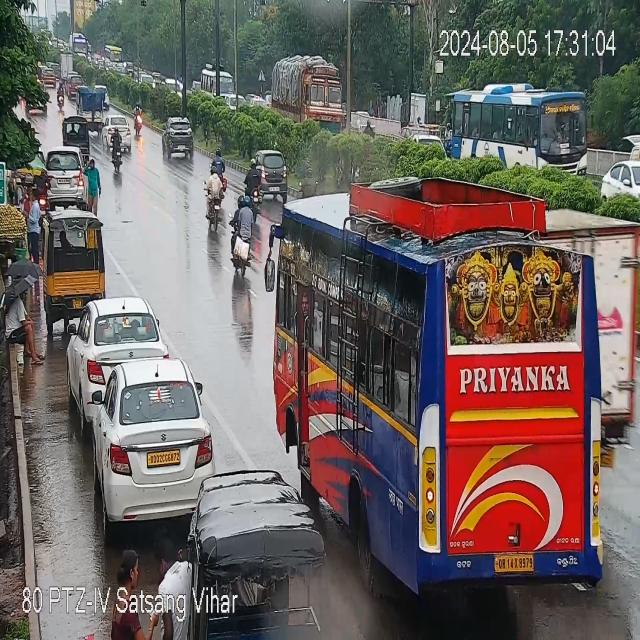2-wheelers: (234, 193, 254, 277), (244, 158, 262, 211), (207, 169, 221, 231), (214, 150, 226, 192), (112, 125, 120, 174), (133, 106, 143, 139), (58, 76, 66, 108), (362, 121, 377, 138)
auto: (204, 477, 320, 586), (44, 216, 103, 324), (65, 116, 91, 154)
bus: (272, 184, 616, 592), (449, 86, 596, 168), (198, 65, 236, 100), (104, 42, 125, 66), (70, 34, 88, 56)
car: (100, 363, 194, 504), (70, 298, 142, 408), (46, 149, 85, 201), (601, 165, 640, 205), (161, 117, 195, 159), (259, 150, 287, 195), (104, 116, 132, 151)
pedestrian: (0, 285, 40, 380), (153, 536, 187, 581), (120, 541, 152, 585), (22, 184, 38, 256), (85, 157, 99, 213)
truck: (551, 189, 640, 447), (266, 52, 351, 133), (75, 88, 106, 130), (58, 51, 76, 80)
